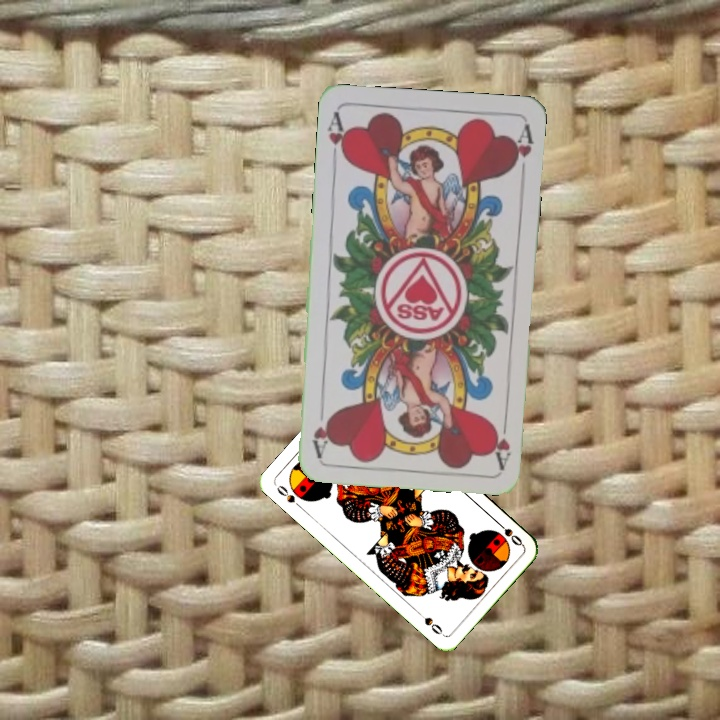HA: (324, 108, 351, 168), (489, 410, 513, 469)
SO: (492, 517, 526, 549), (272, 481, 305, 512)
